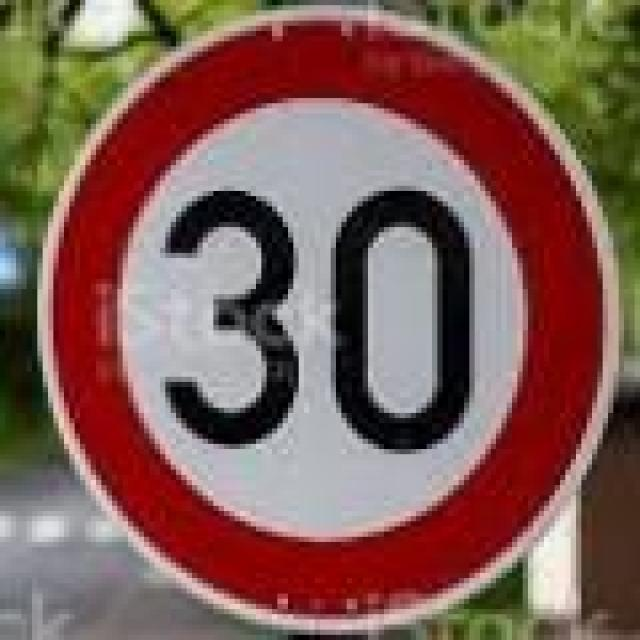speed_limit_30: (32, 5, 613, 630)
